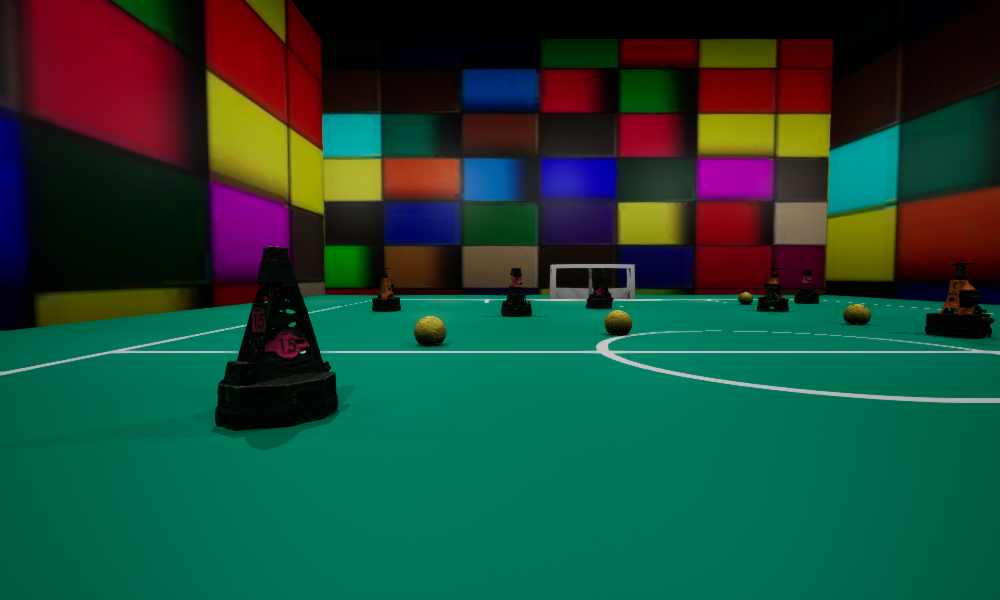b: (414, 316, 445, 345), (604, 310, 631, 334), (843, 304, 870, 324), (738, 292, 752, 303)
o: (925, 263, 994, 338), (757, 268, 788, 311), (372, 268, 400, 311)
p1: (215, 246, 337, 429), (586, 268, 613, 308)
p2: (501, 268, 531, 316), (794, 270, 818, 303)
